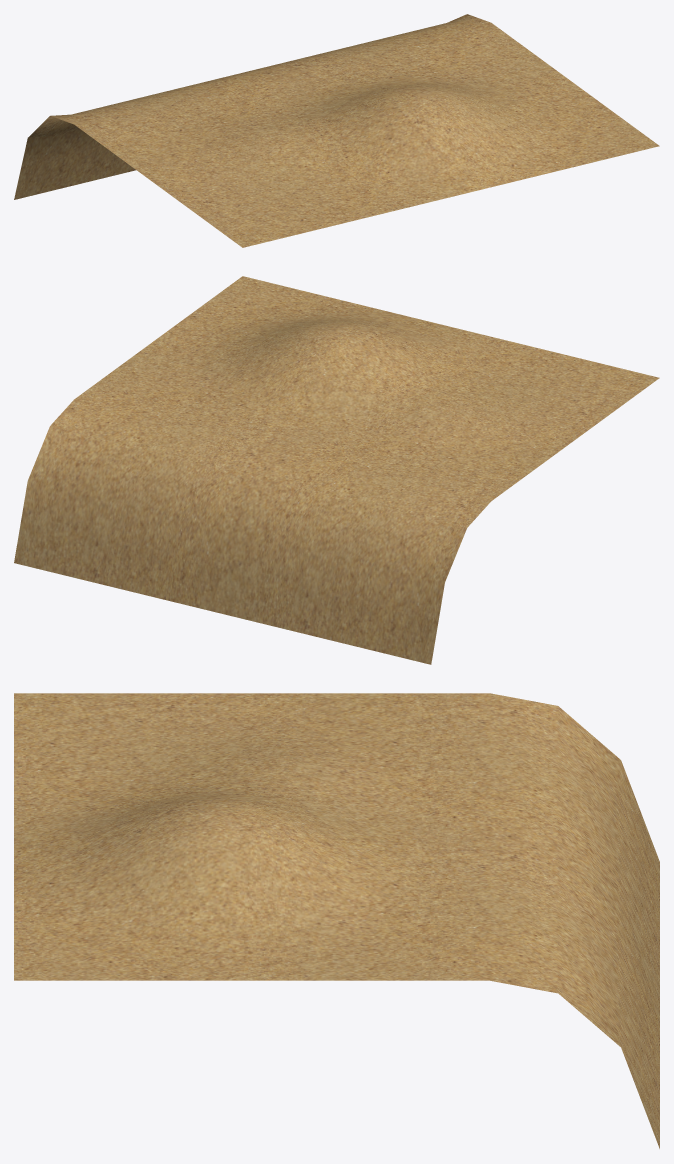
Rendered from backPath2.obj.
3 renders of one model, top to bottom at view 1: azimuth 30°, elevation 25°; view 2: azimuth 150°, elevation 25°; view 3: azimuth 270°, elevation 25°, orthographic. The views are drawn at different scales.
Parts seen in each view (by area): view 1: pPlane2; view 2: pPlane2; view 3: pPlane2.
Part boxes in pixels (x1,y1,x2,y2): pPlane2: (14, 14, 659, 247); pPlane2: (14, 276, 659, 664); pPlane2: (14, 693, 659, 1148).
Size of the model in its own units: 6 by 2.14 by 5.7.
Materials: 1 (1 with a texture image).
